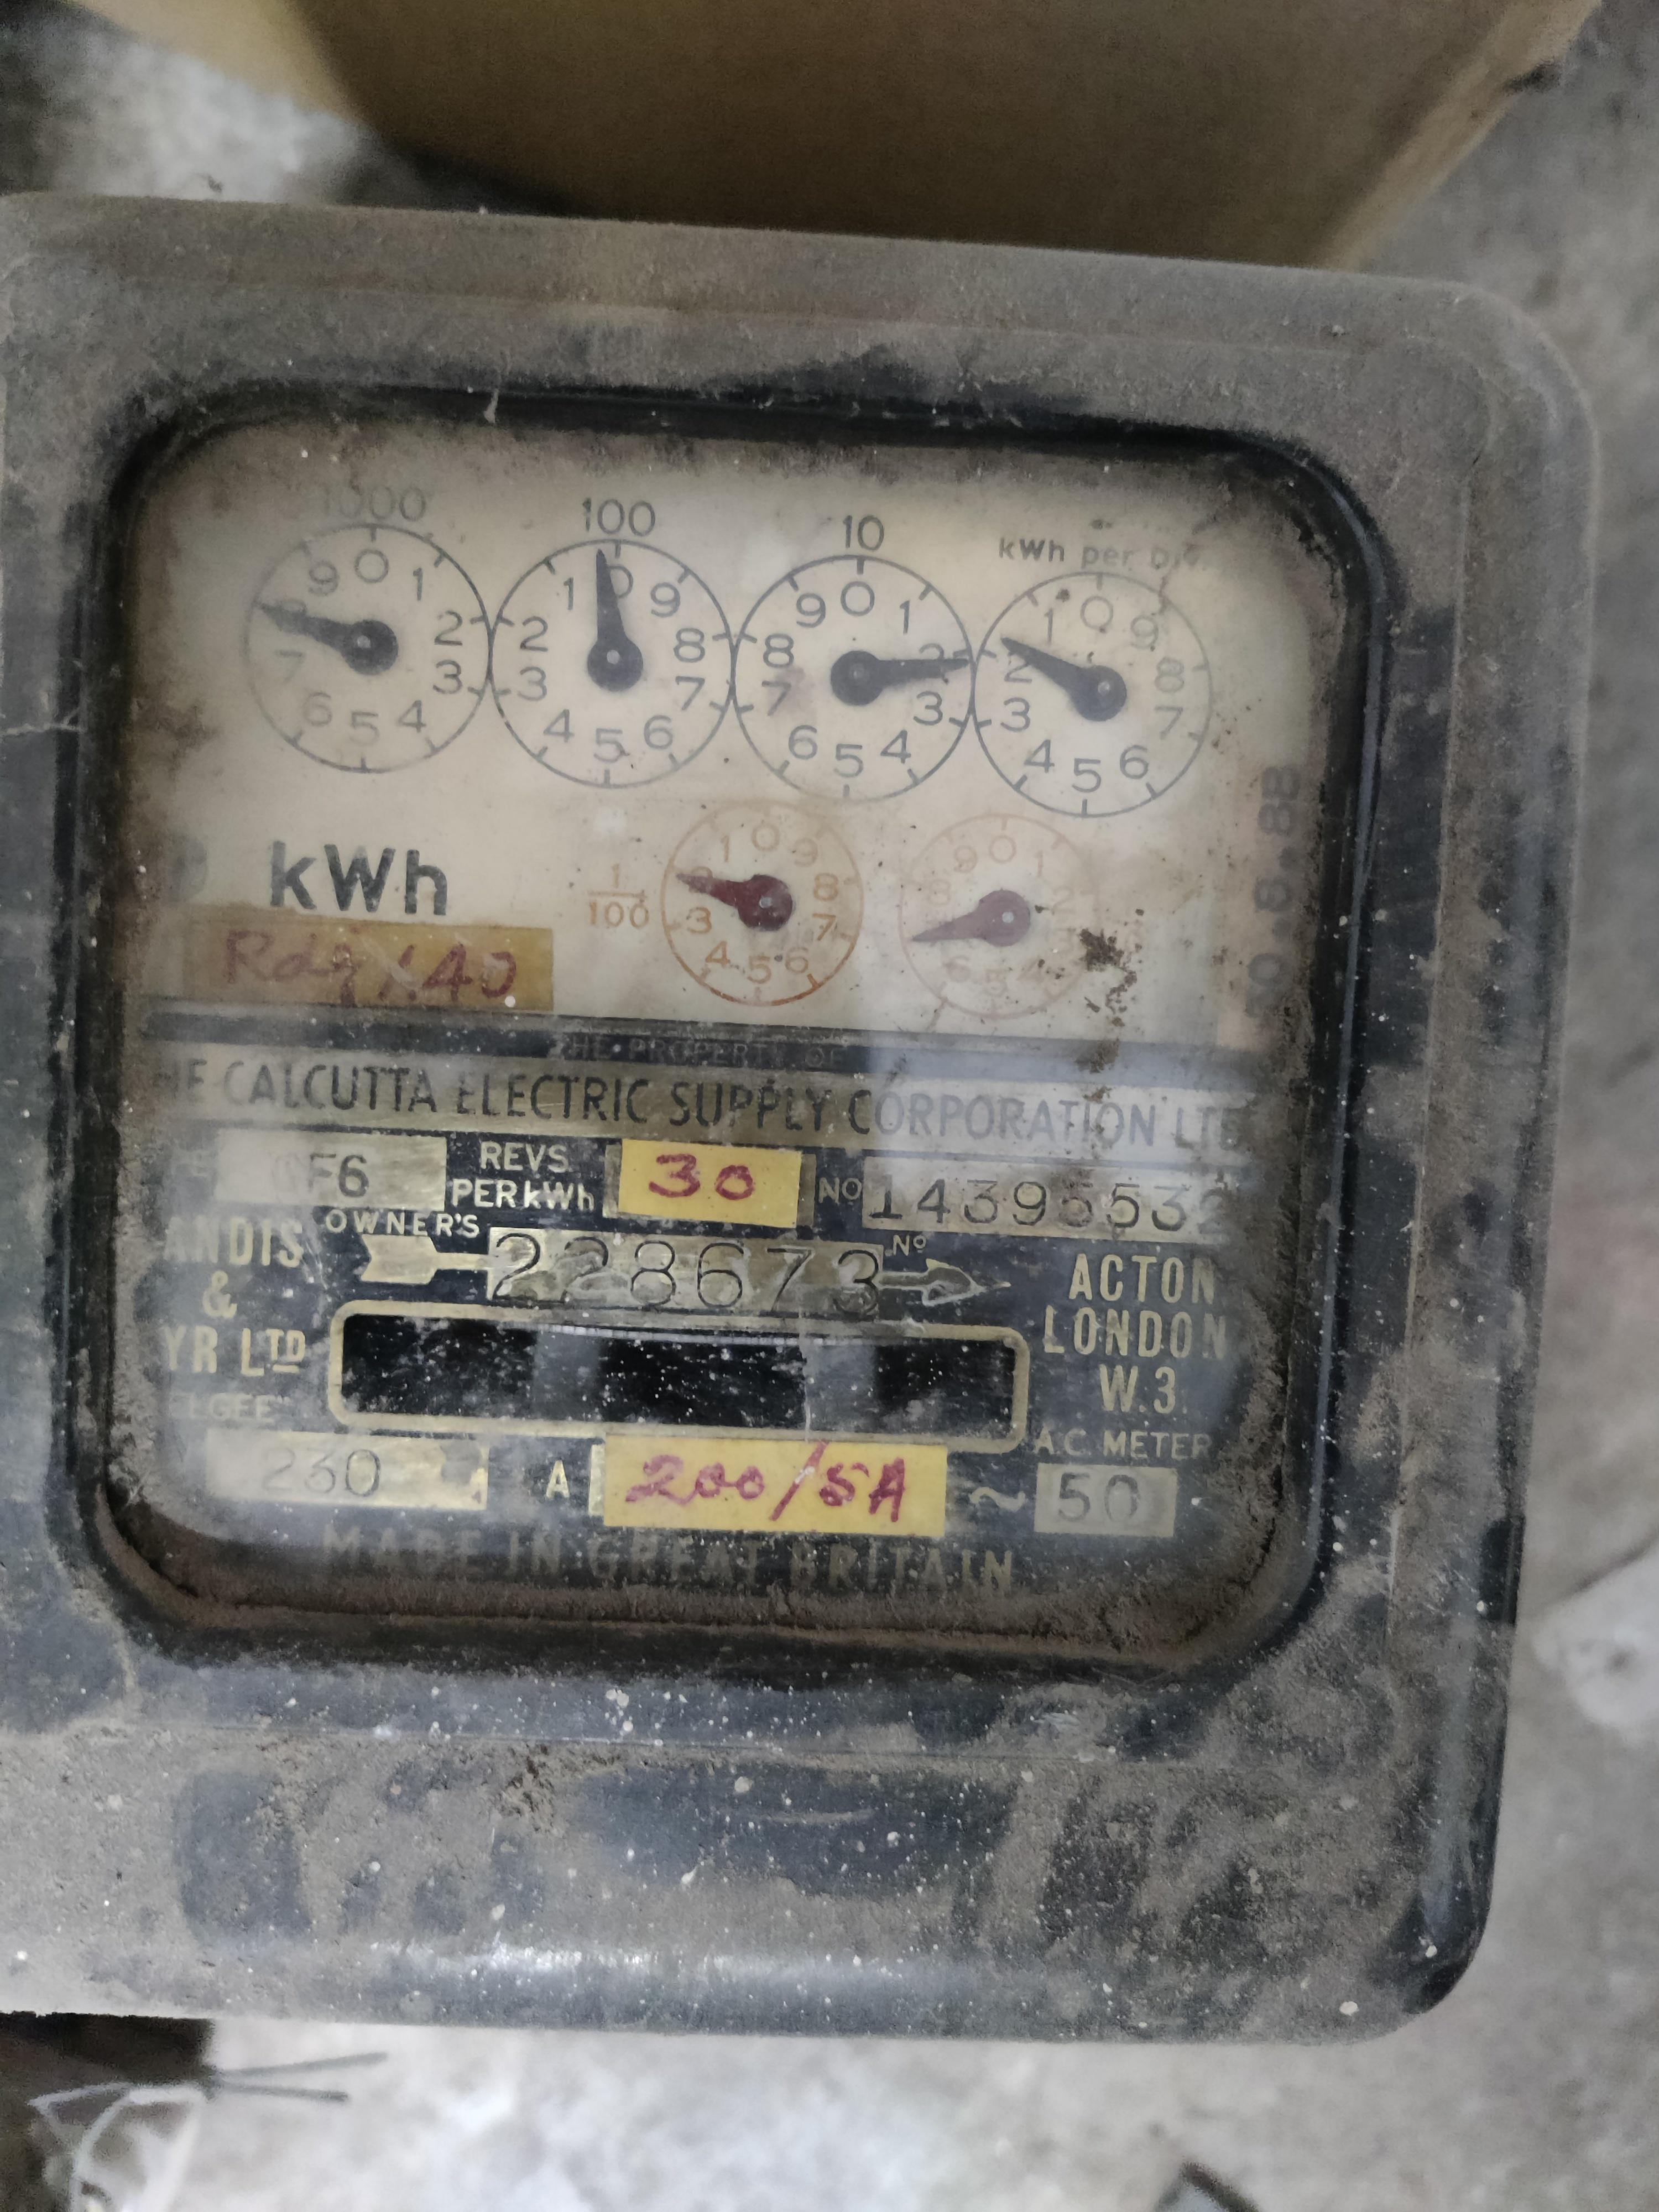meter_readings: (181, 514, 1227, 1025)
serial_number: (863, 1164, 1251, 1232)
